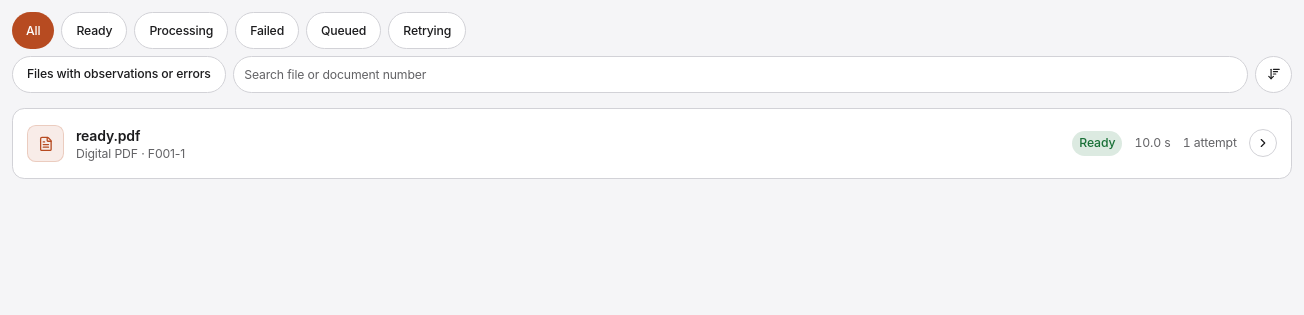
Scenario: search with no matches offers clear filters and restores files
Type "missing" into the search field at (740, 74), box [233,56,1248,93]
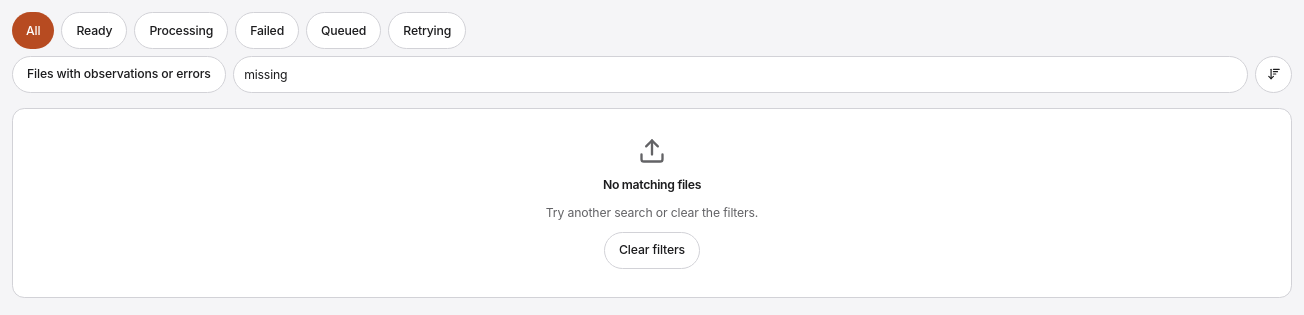
Expected: the heading "No matching files" is shown, [603,176,701,193]
Click the button "Clear filters" at (652, 250), box [604,232,700,269]
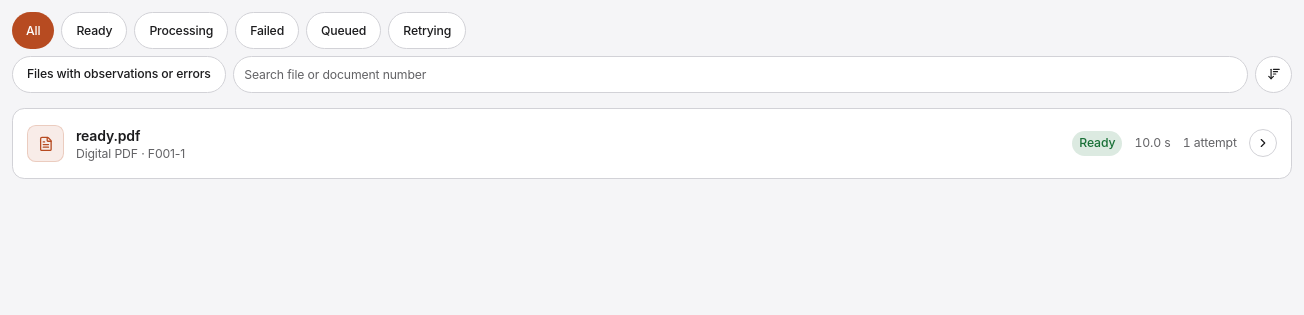
Expected: the text "ready.pdf" is shown, [76,127,140,144]
